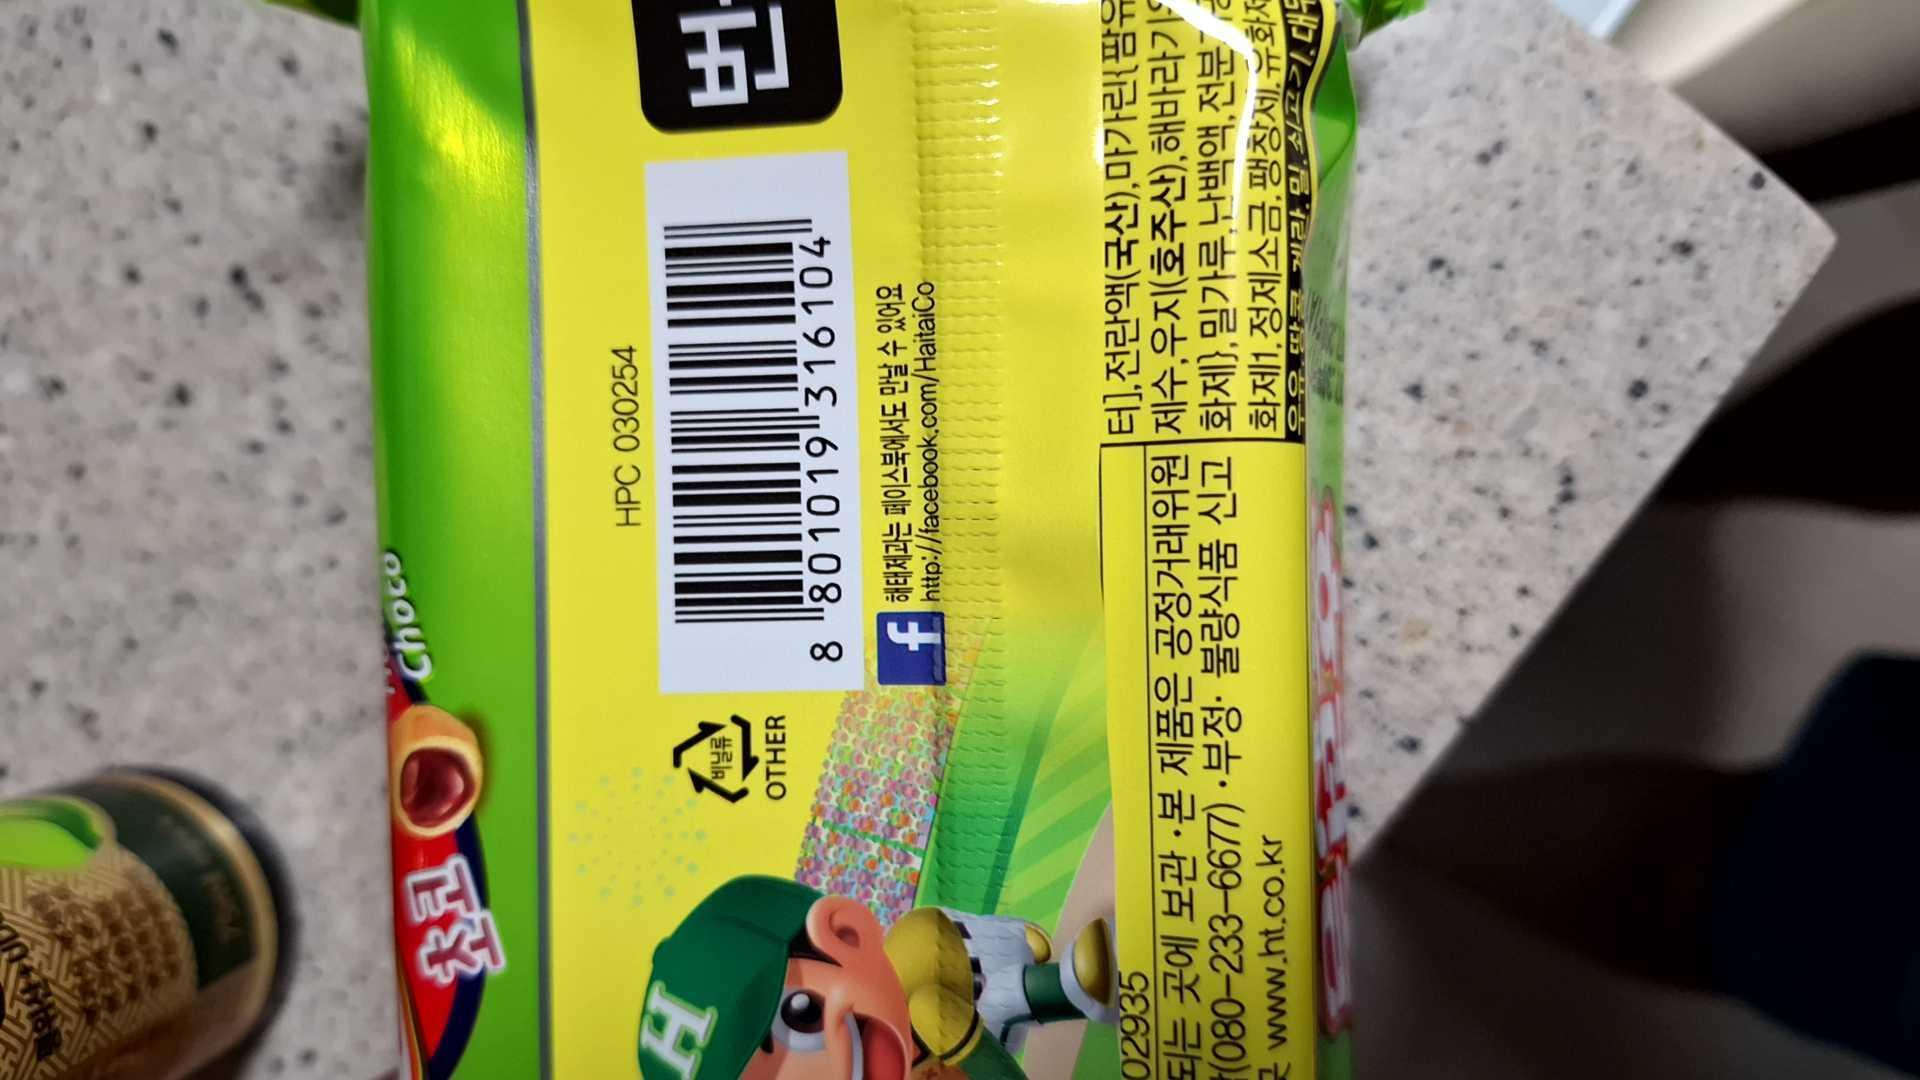cow-12000-2024-8-30: (650, 198, 855, 669)
